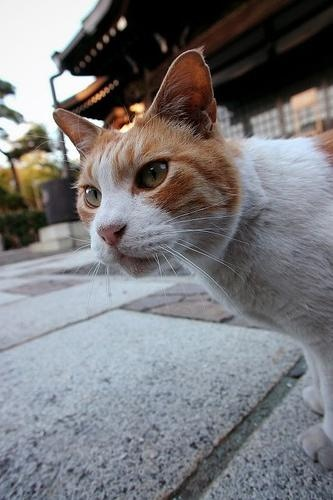cat: (52, 47, 333, 472)
